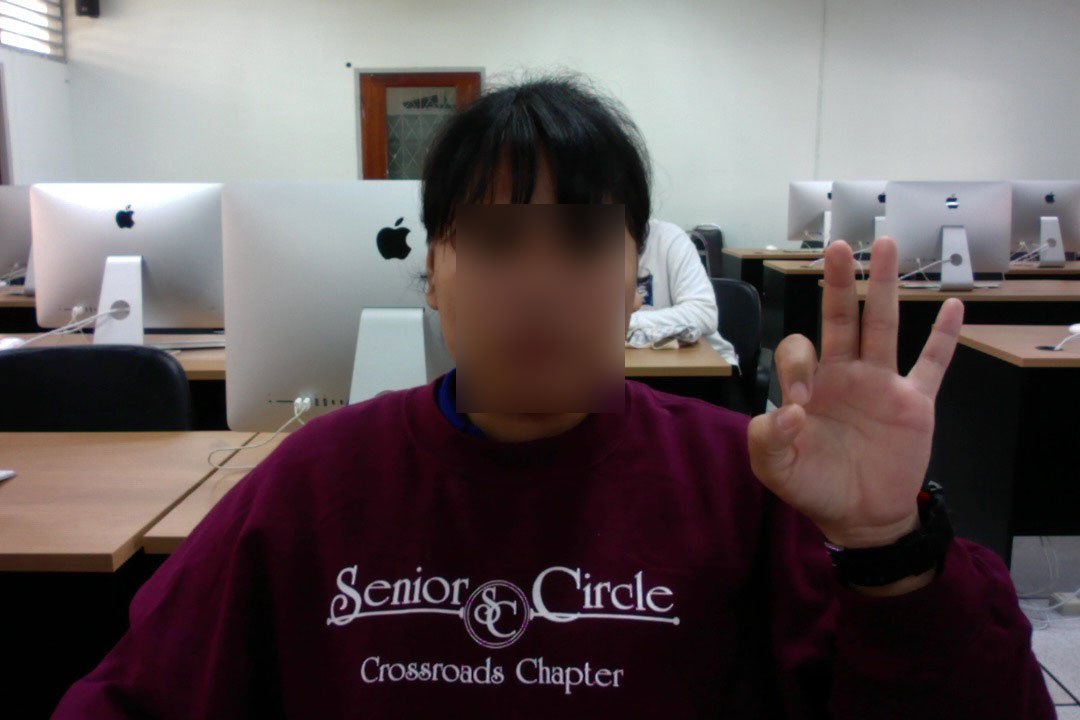for: (736, 225, 968, 542)
